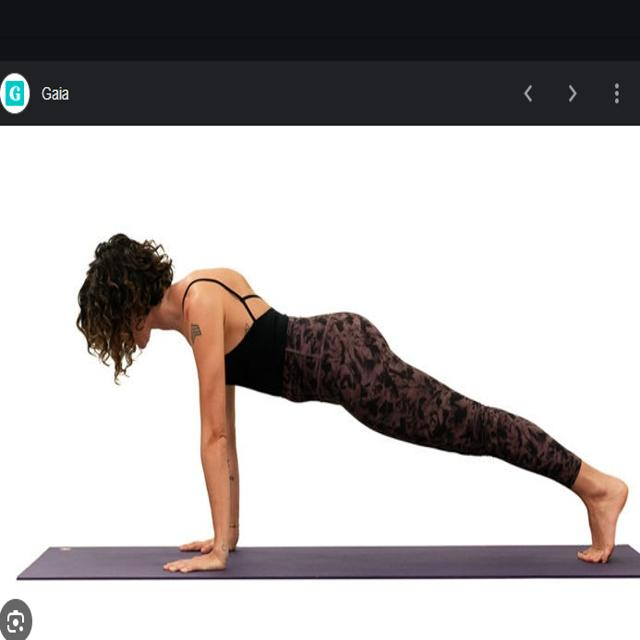Plank_Pose: (61, 219, 636, 586)
